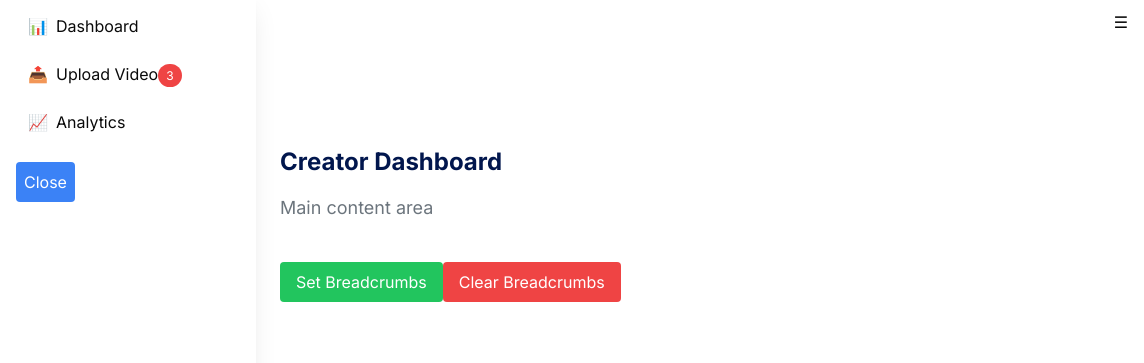
Test case: Layout Accessibility › Breadcrumb Navigation › should have proper breadcrumb structure
What coordinates should you click on to do the following:
click the button with test id "set-breadcrumbs"
I would click on:
 (361, 282)
Its box is [280,262,443,302].
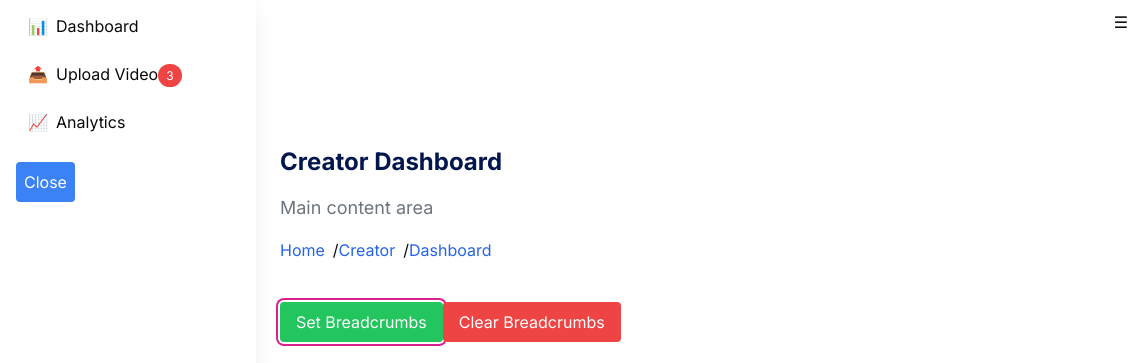
Check: the navigation bar named "Breadcrumb" is shown, box [280,240,492,260]
Check: the link "Dashboard" is shown, box [409,238,492,262]
